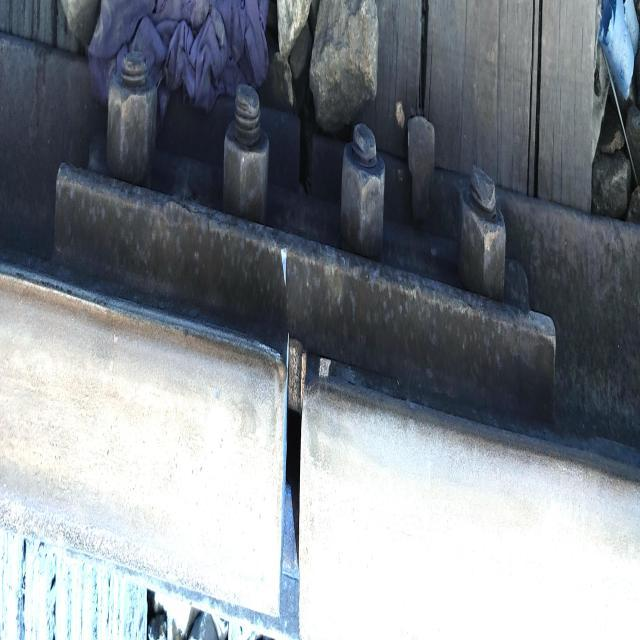Good Fasteners: (408, 115, 435, 219)
Good Joint: (38, 31, 559, 419)
